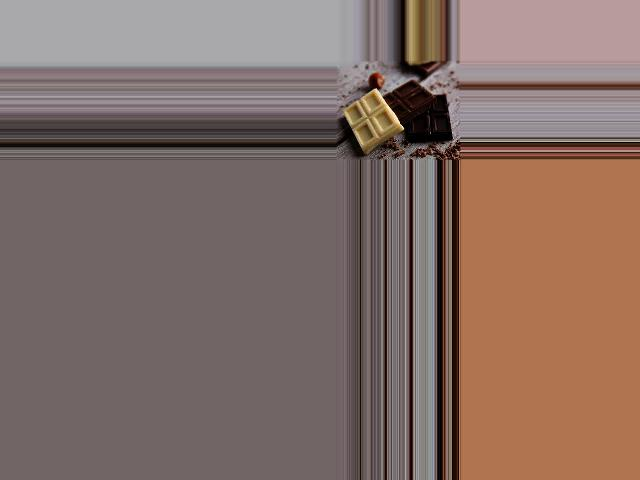chocolate: (343, 79, 457, 147)
